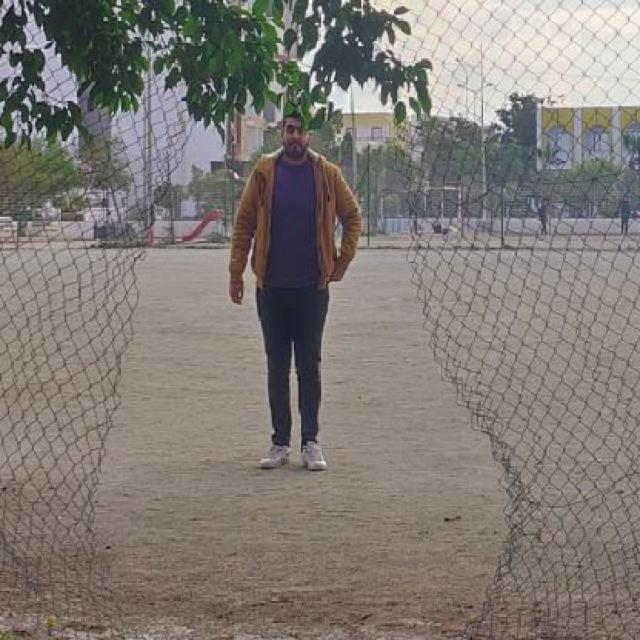fence line: (95, 72, 524, 615)
